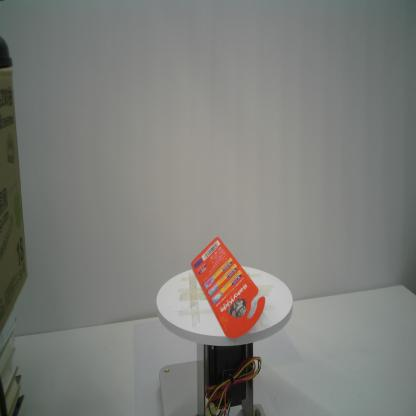Personal Hygiene: (191, 236, 266, 340)
